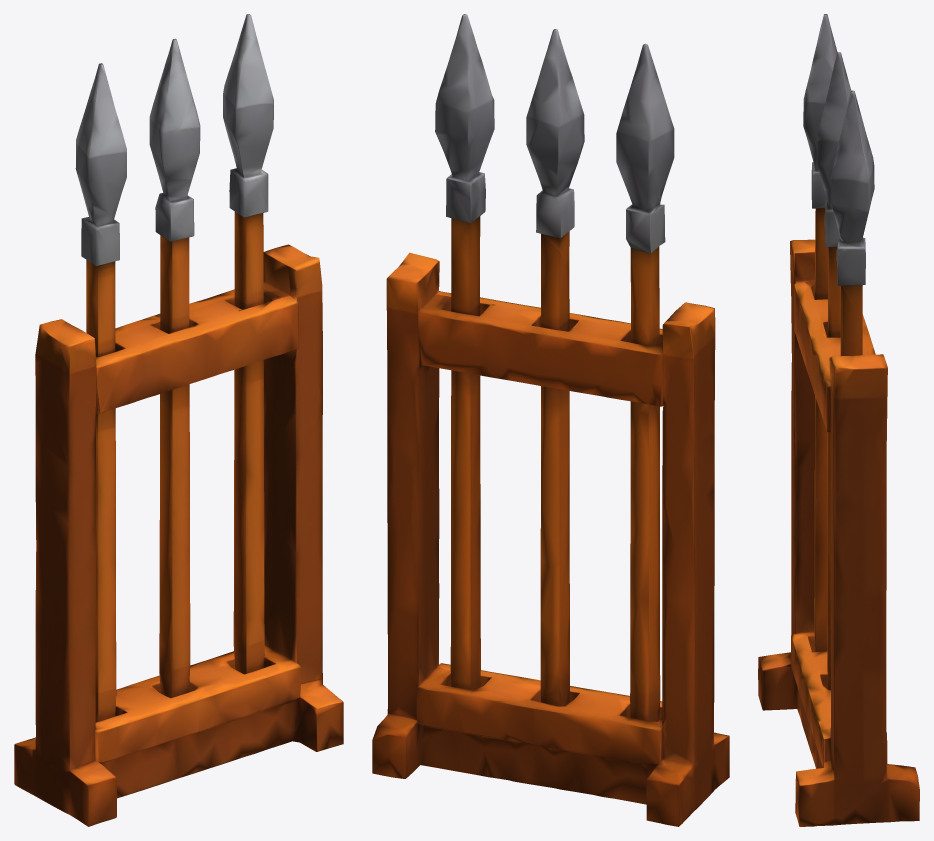
Rendered from compact-spear-rack.glb.
3 views of the same model, side by side, from view 1: azimuth 30°, elevation 25°; view 2: azimuth 150°, elevation 25°; view 3: azimuth 270°, elevation 25° (orthographic). The views are drawn at different scales.
Parts seen in each view (by area): view 1: tripo_node_63071b9e-e630-4d33-bcef-cd7cb5f226c8; view 2: tripo_node_63071b9e-e630-4d33-bcef-cd7cb5f226c8; view 3: tripo_node_63071b9e-e630-4d33-bcef-cd7cb5f226c8.
Part boxes in pixels (x1=…): tripo_node_63071b9e-e630-4d33-bcef-cd7cb5f226c8: x1=14, y1=14, x2=343, y2=826; tripo_node_63071b9e-e630-4d33-bcef-cd7cb5f226c8: x1=372, y1=14, x2=729, y2=826; tripo_node_63071b9e-e630-4d33-bcef-cd7cb5f226c8: x1=758, y1=14, x2=919, y2=826.
Size of the model in its own units: 0.5 by 1.2 by 0.25.
1 material, 1 textured.
